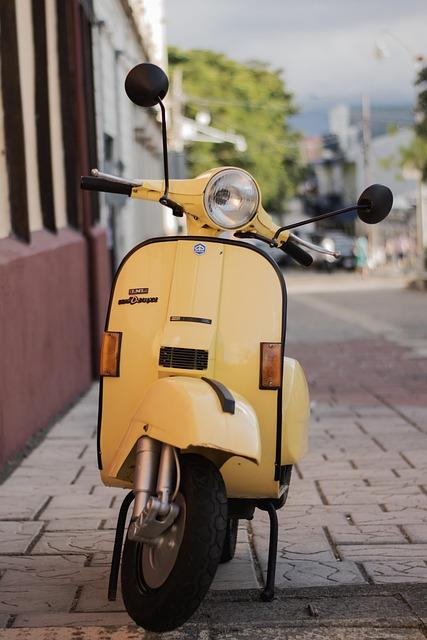Non_Gorille: (18, 19, 393, 637)
